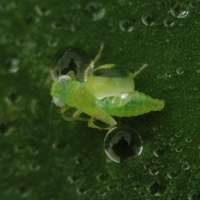insect: (51, 43, 163, 162)
